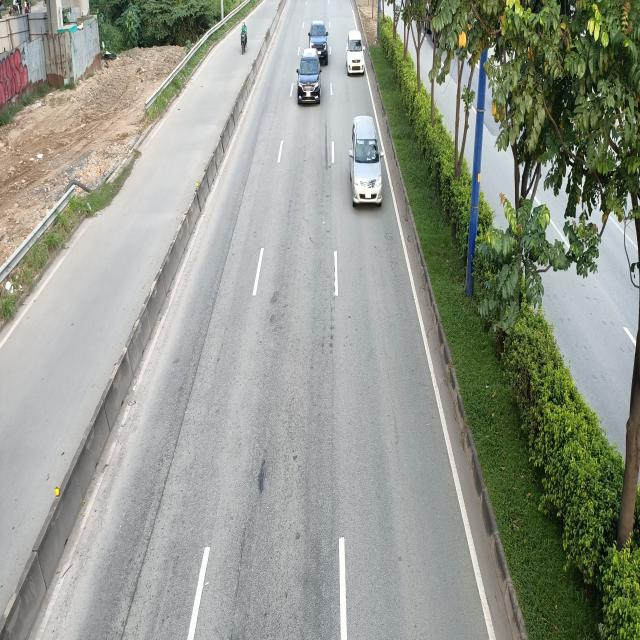car: (350, 116, 384, 208), (297, 48, 323, 106), (346, 30, 366, 75)
